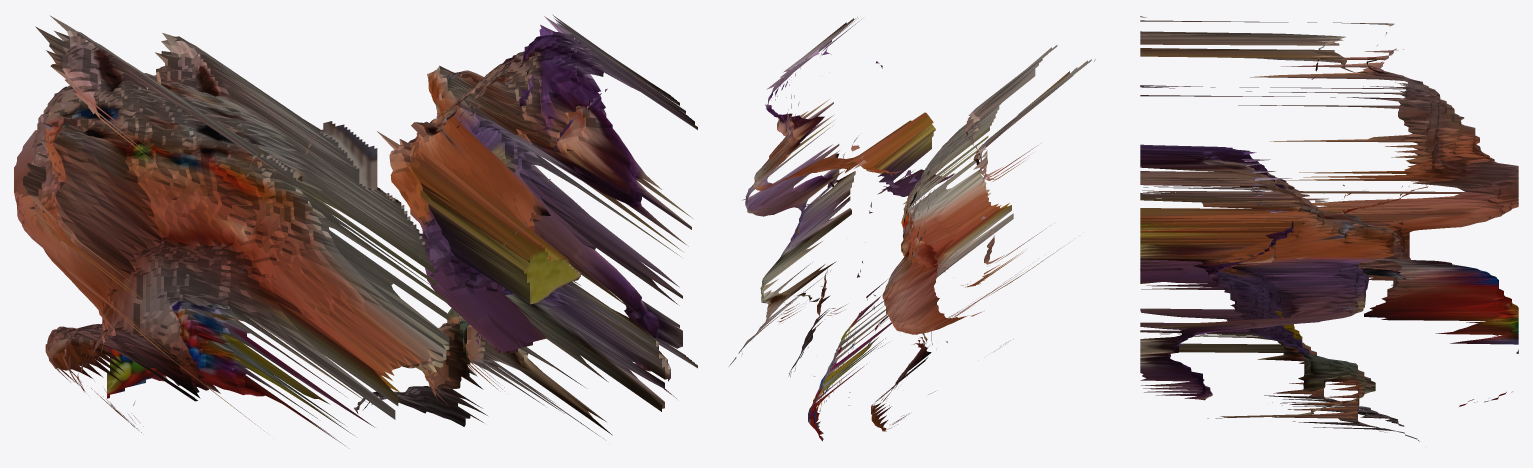
Rendered from frame_00406.glb.
3 renders of one model, left to right at view 1: azimuth 30°, elevation 25°; view 2: azimuth 150°, elevation 25°; view 3: azimuth 270°, elevation 25°, orthographic. The views are drawn at different scales.
Visible parts, largest first — view 1: geometry_0; view 2: geometry_0; view 3: geometry_0.
Boxes of the visible parts, <box> form: geometry_0: <box>14,14,697,445</box>; geometry_0: <box>729,17,1095,441</box>; geometry_0: <box>1140,16,1518,441</box>.
Bounding box in the file's own units: 0.1535 × 0.1566 × 0.16.
Materials: 1 (1 with a texture image).
